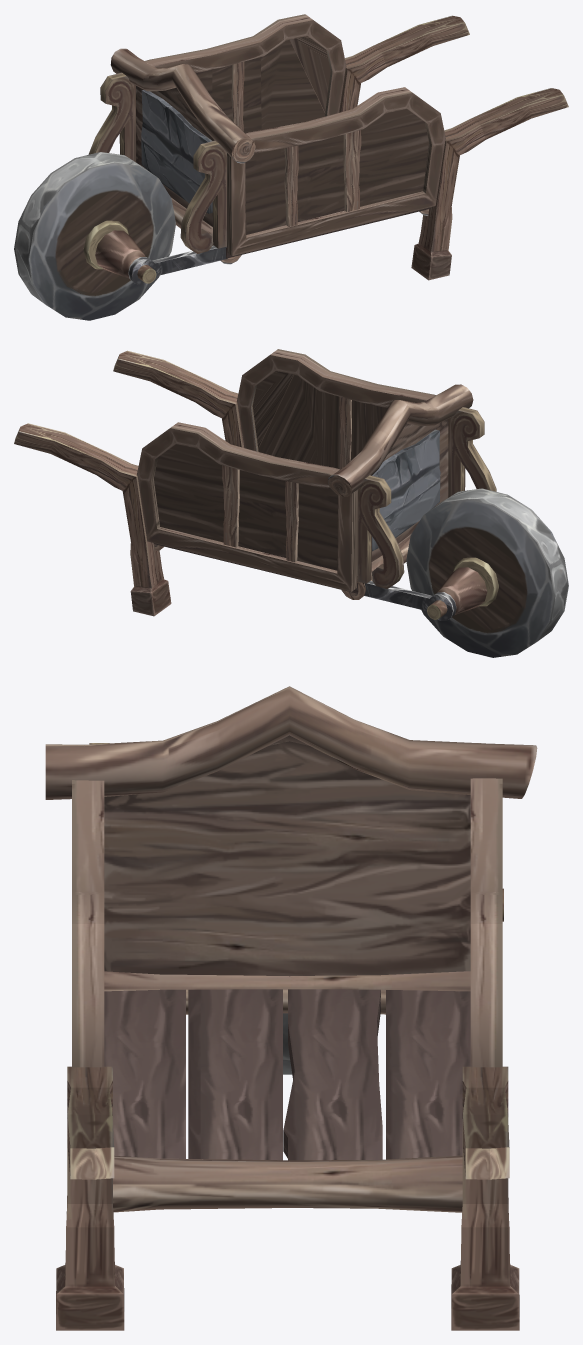
File: TUICHE4.fbx
The picture shows the model from 3 angles, top to bottom: view 1: azimuth 30°, elevation 25°; view 2: azimuth 150°, elevation 25°; view 3: azimuth 270°, elevation 25°; orthographic projection. The views are drawn at different scales.
Parts seen in each view (by area): view 1: TUICHE; view 2: TUICHE; view 3: TUICHE.
Part boxes in pixels (x1,y1,x2,y2): TUICHE: (14,14,568,320); TUICHE: (14,349,568,657); TUICHE: (45,686,537,1330).
Bounding box in the file's own units: 111 × 48.57 × 47.66.
Materials: 1 (1 with a texture image).
